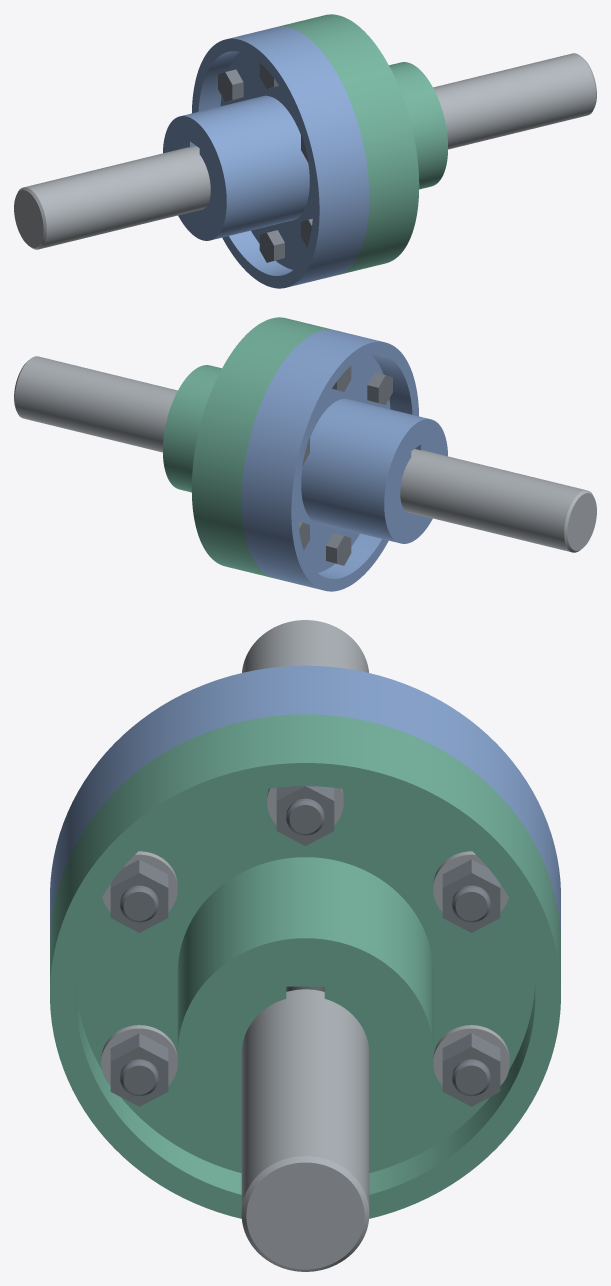
Rendered from flange_coupling.glb.
3 renders of one model, top to bottom at view 1: azimuth 30°, elevation 25°; view 2: azimuth 150°, elevation 25°; view 3: azimuth 270°, elevation 25°, orthographic. The views are drawn at different scales.
Visible parts, largest first — view 1: flange A (spigot), flange B (recess), shaft A, shaft B, bolt 5, bolt 1; view 2: flange A (spigot), flange B (recess), shaft A, shaft B, bolt 5, bolt 3; view 3: flange B (recess), shaft B, flange A (spigot), shaft A, nut 4, nut 6, nut 1, nut 3, nut 2, washer 4, washer 6, bolt 1 (+6 smaller).
Boxes of the visible parts, box(x1,y1,x2,y2) form: flange A (spigot): box(163, 26, 369, 288); flange B (recess): box(279, 14, 447, 275); shaft A: box(14, 146, 210, 249); shaft B: box(433, 53, 596, 149); bolt 5: box(259, 230, 284, 262); bolt 1: box(218, 69, 243, 101); flange A (spigot): box(241, 329, 447, 591); flange B (recess): box(163, 317, 331, 578); shaft A: box(400, 449, 596, 552); shaft B: box(14, 356, 177, 452); bolt 5: box(326, 533, 351, 565); bolt 3: box(367, 372, 392, 404); flange B (recess): box(50, 714, 560, 1218); shaft B: box(241, 989, 369, 1271); flange A (spigot): box(50, 665, 560, 935); shaft A: box(242, 620, 368, 672); nut 4: box(110, 1033, 168, 1106); nut 6: box(442, 1033, 500, 1106); nut 1: box(442, 859, 500, 932); nut 3: box(110, 859, 168, 932); nut 2: box(276, 786, 334, 845); washer 4: box(101, 1025, 177, 1085); washer 6: box(433, 1025, 509, 1085); bolt 1: box(452, 885, 490, 922).
Bounding box in the file's own units: 400 × 160 × 160.
